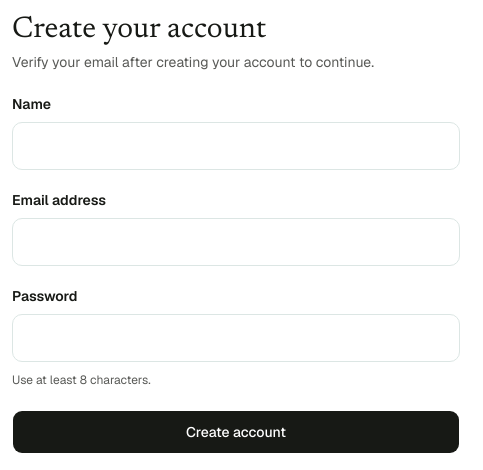
Test case: ManagedAuthForm › prioritizes a server-supplied verification message over fallback copy
The image size is (483, 470).
In the field labelled "Name": (236, 146) x1=12 y1=122 x2=460 y2=170, type "Synthetic Researcher"
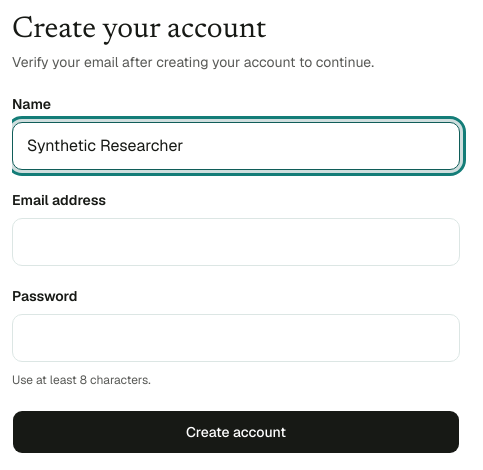
In the field labelled "Email address": (236, 242) x1=12 y1=218 x2=460 y2=266, type "researcher@example.test"
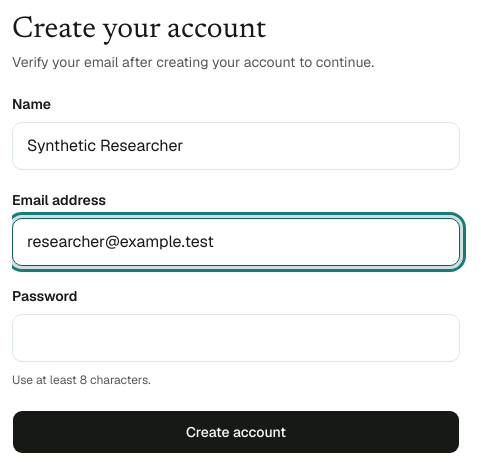
In the password field labelled "Password": (236, 338) x1=12 y1=314 x2=460 y2=362, type "synthetic-password"
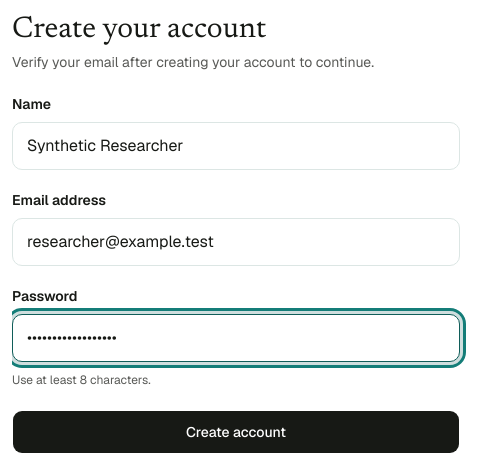
Click the button "Create account": (236, 432) x1=12 y1=410 x2=460 y2=454
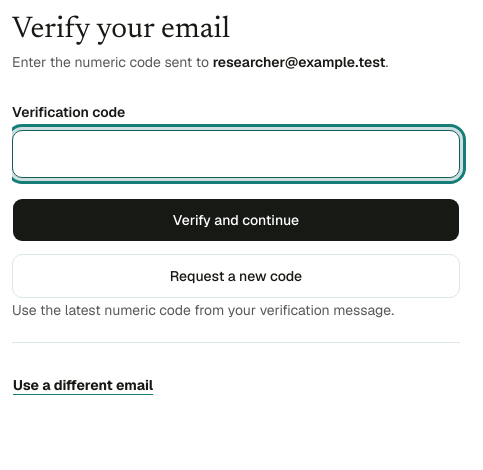
expect the text "Use the latest numeric code from your verification message." is shown: met, box x1=12 y1=298 x2=460 y2=322
